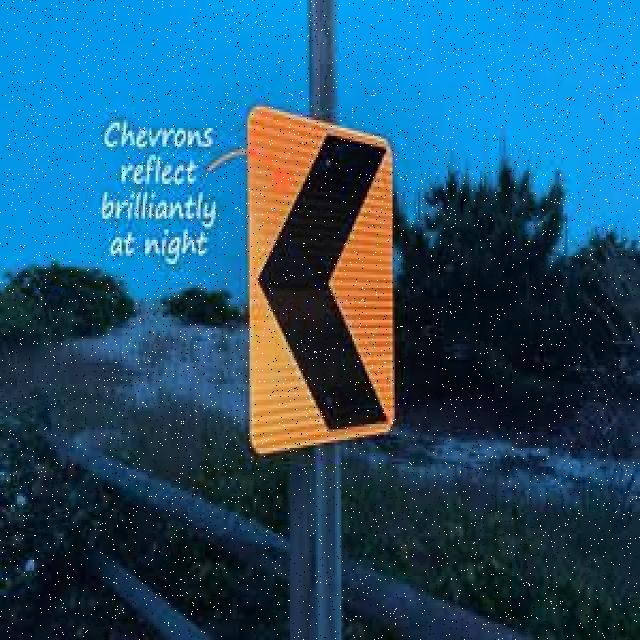chevron_left: (248, 115, 392, 450)
